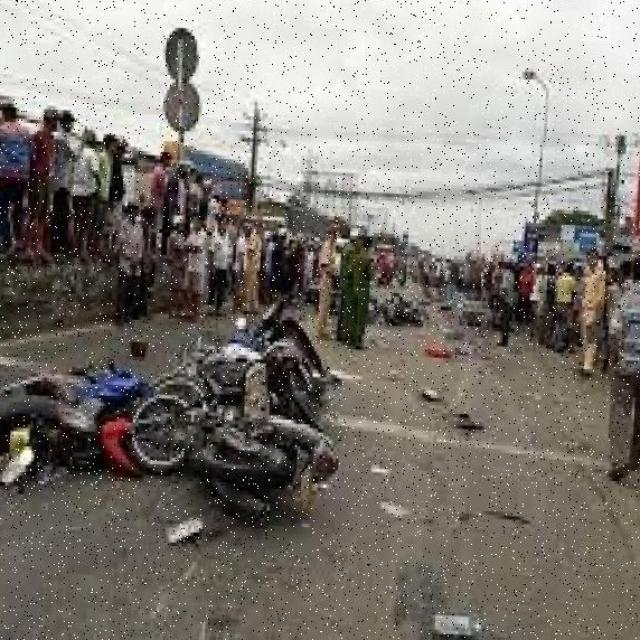accident: (97, 246, 351, 562), (368, 275, 432, 345)
